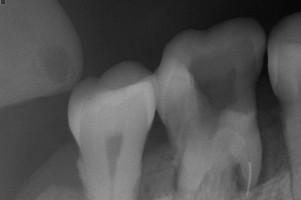Dental Caries: (257, 104, 290, 188), (232, 165, 241, 191)
